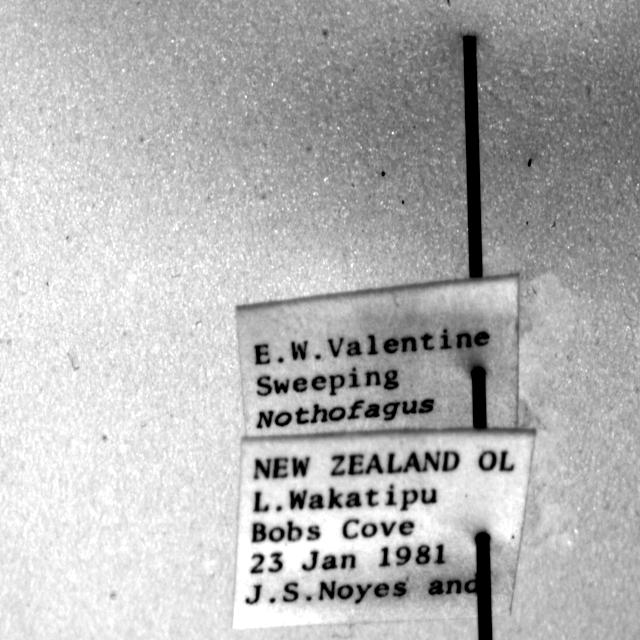typed_label: (234, 429, 535, 628), (236, 276, 519, 437)
